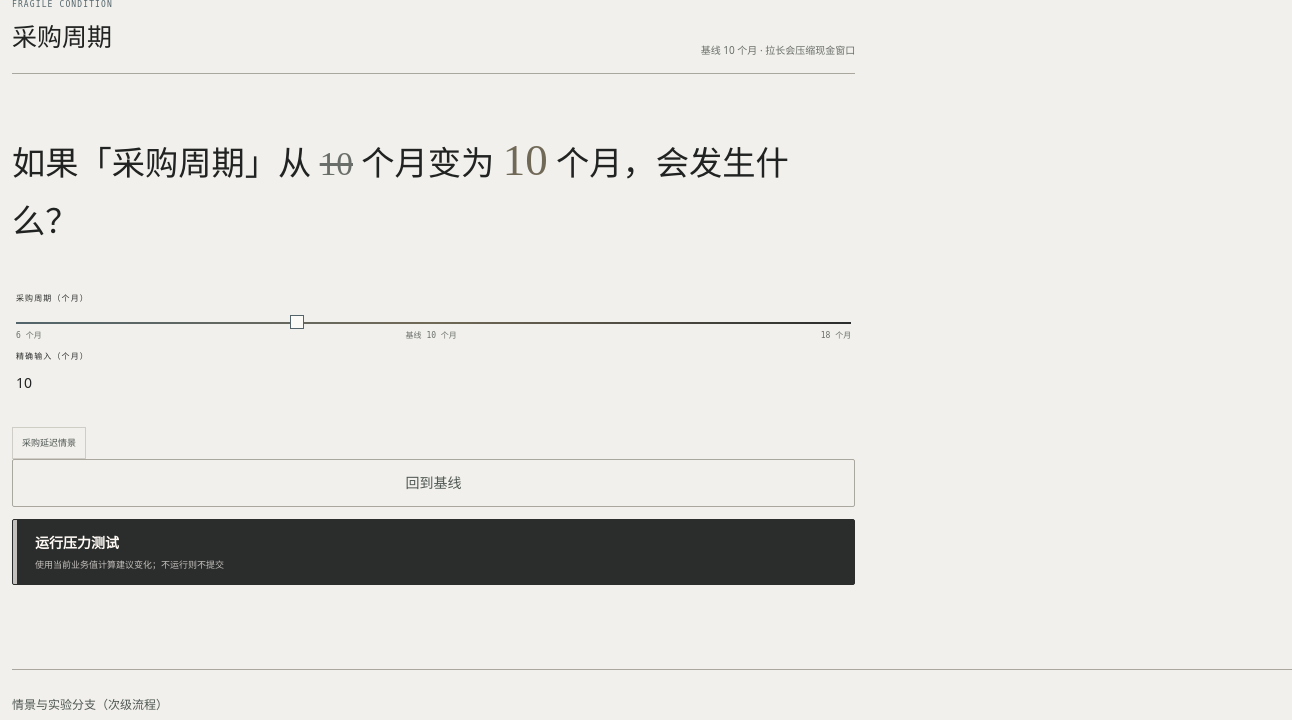
Task 13 sandbox: idempotency, uniform 404 and formal gate › uniform 404 presentation stays tenant-safe
(page scrolled)
Click the button "运行压力测试 使用当前业务值计算建议变化；不运行则不提交" at (77, 543), box [12, 519, 855, 585]
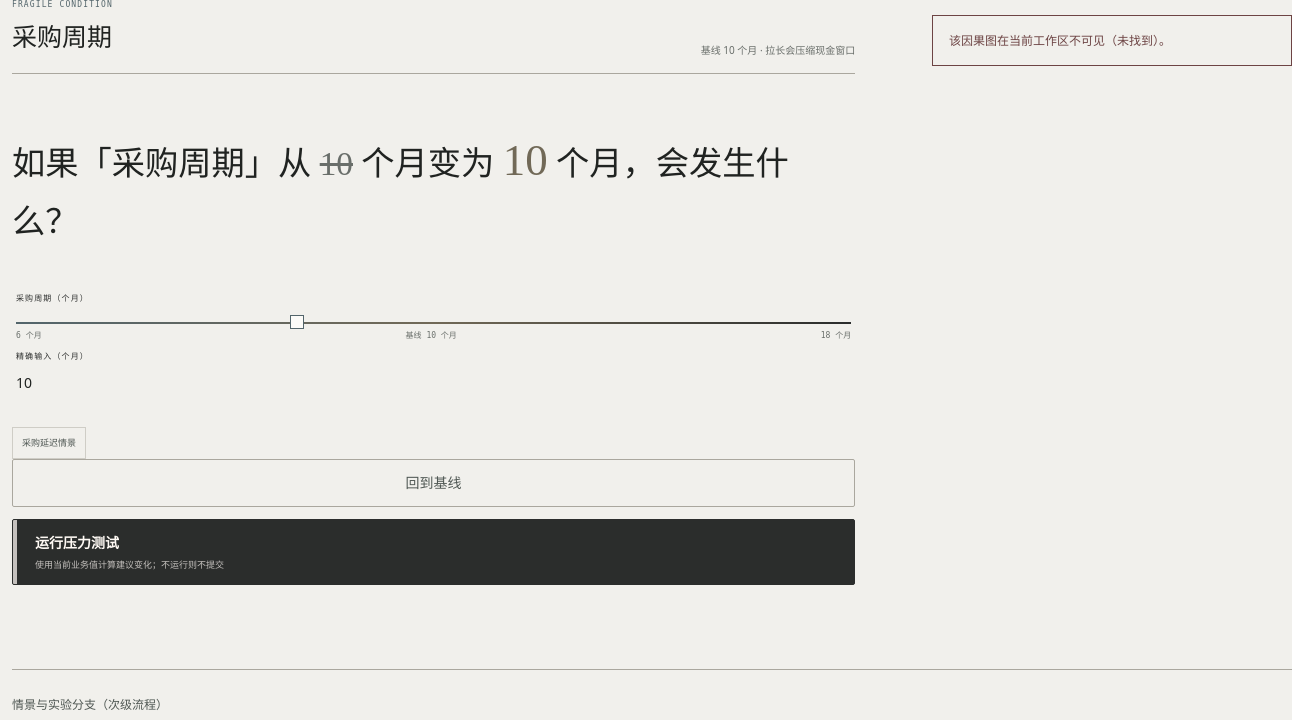
Expected: the message reads "该因果图在当前工作区不可见（未找到）。", [949, 32, 1171, 49]
